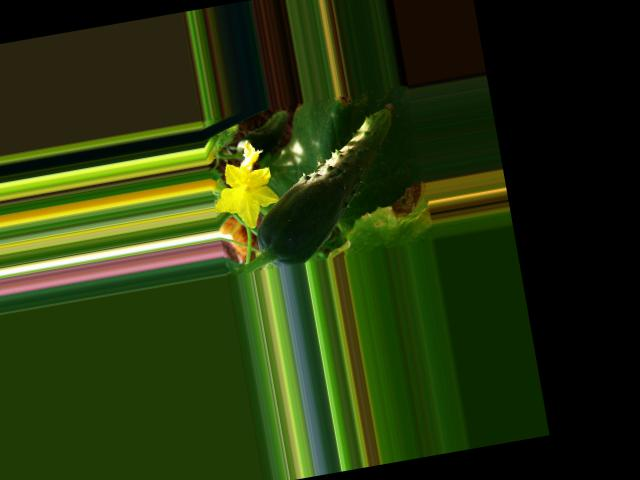cucumber: (237, 102, 417, 270)
